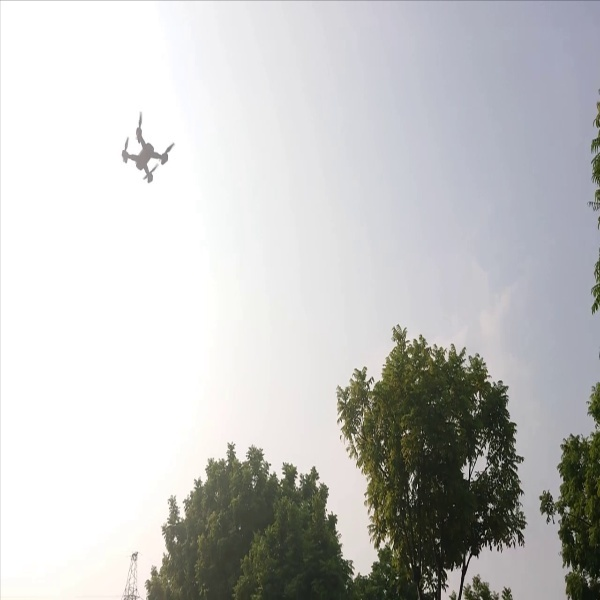drone: (118, 107, 175, 187)
